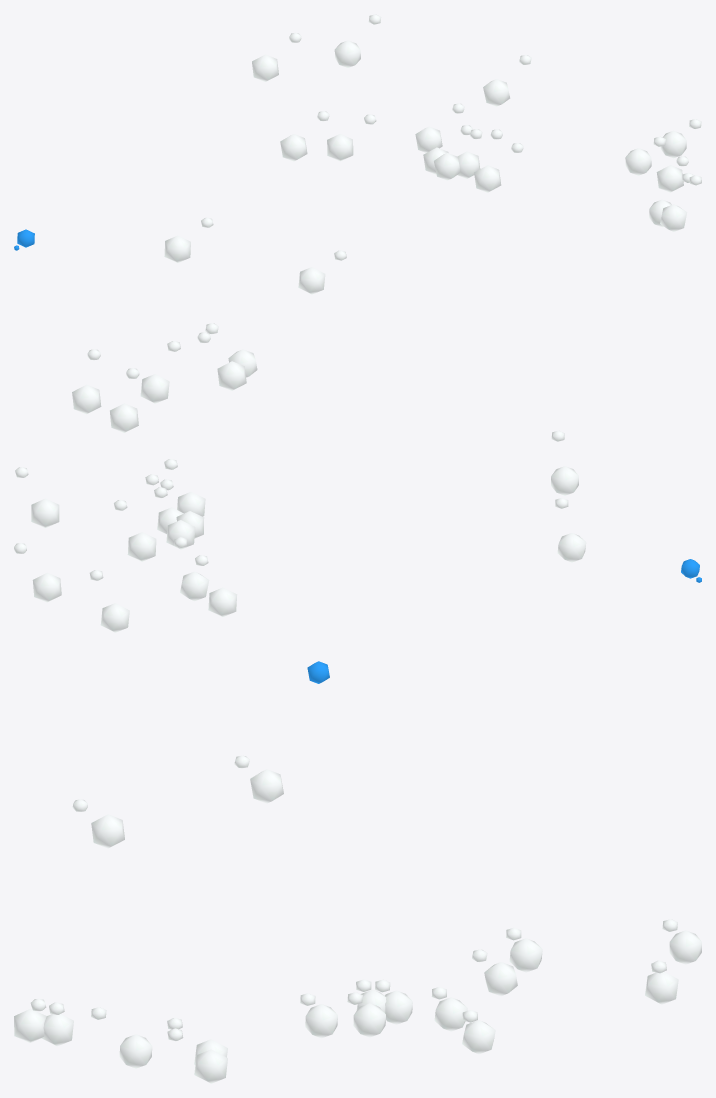
Rendered from model_chunk_12.glb.
3 renders of one model, top to bottom at view 1: azimuth 30°, elevation 25°; view 2: azimuth 150°, elevation 25°; view 3: azimuth 270°, elevation 25°, orthographic. The views are drawn at different scales.
Parts seen in each view (by area): view 1: SplashParticle01428, SplashParticle01448, SplashParticle01455, SplashParticle01430, SplashParticle01420, SplashParticle01418, SplashParticle01440, SplashParticle01426, SplashParticle01412, SplashParticle01458, SplashParticle01443, SplashParticle01432 (+3 smaller); view 2: SplashParticle01443, SplashParticle01426, SplashParticle01442, SplashParticle01418, SplashParticle01458, SplashParticle01423, SplashParticle01430, SplashParticle01420, SplashParticle01410, SplashParticle01448, SplashParticle01428, SplashParticle01455 (+5 smaller); view 3: SplashParticle01423, SplashParticle01455, SplashParticle01440, SplashParticle01418, SplashParticle01426, SplashParticle01430, SplashParticle01441, SplashParticle01448, SplashParticle01428, SplashParticle01458, SplashParticle01412, SplashParticle01443 (+3 smaller).
Part boxes in pixels (x1,y1,x2,y2): SplashParticle01428: [327, 114, 376, 161]; SplashParticle01448: [164, 217, 213, 262]; SplashParticle01455: [298, 250, 346, 294]; SplashParticle01430: [252, 32, 301, 81]; SplashParticle01420: [625, 136, 665, 175]; SplashParticle01418: [656, 156, 688, 192]; SplashParticle01440: [474, 143, 523, 192]; SplashParticle01426: [280, 111, 329, 161]; SplashParticle01412: [660, 175, 701, 231]; SplashParticle01458: [334, 14, 381, 67]; SplashParticle01443: [483, 55, 531, 106]; SplashParticle01432: [434, 129, 482, 180]; SplashParticle01443: [15, 467, 59, 528]; SplashParticle01426: [195, 555, 237, 616]; SplashParticle01442: [114, 500, 156, 561]; SplashParticle01418: [140, 341, 180, 403]; SplashParticle01458: [14, 543, 61, 602]; SplashParticle01423: [72, 349, 101, 414]; SplashParticle01430: [89, 570, 129, 632]; SplashParticle01420: [110, 368, 139, 432]; SplashParticle01410: [197, 332, 246, 390]; SplashParticle01448: [555, 498, 586, 562]; SplashParticle01428: [174, 537, 209, 601]; SplashParticle01455: [551, 430, 578, 495]; SplashParticle01423: [167, 1028, 227, 1083]; SplashParticle01455: [72, 799, 124, 848]; SplashParticle01440: [300, 993, 337, 1038]; SplashParticle01418: [91, 1007, 152, 1068]; SplashParticle01426: [506, 927, 542, 972]; SplashParticle01430: [662, 919, 701, 964]; SplashParticle01441: [347, 992, 385, 1037]; SplashParticle01448: [234, 755, 283, 803]; SplashParticle01428: [472, 949, 517, 996]; SplashParticle01458: [645, 960, 678, 1004]; SplashParticle01412: [14, 998, 46, 1042]; SplashParticle01443: [462, 1010, 495, 1054].
Bounding box in the file's own units: 1.07 × 0.1359 × 0.8144.
Materials: 1 (1 with a texture image).
